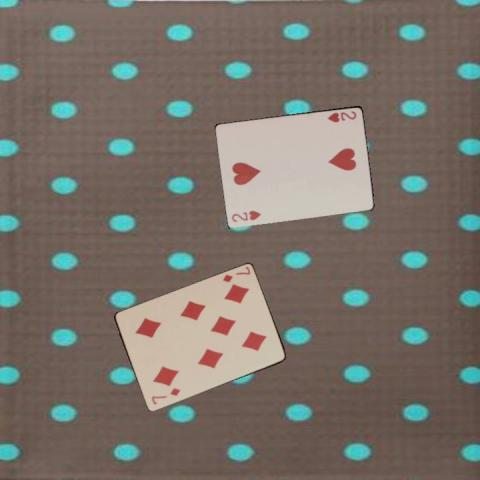2h: (229, 208, 262, 224), (325, 108, 358, 123)
7d: (149, 385, 182, 406), (220, 264, 252, 284)
